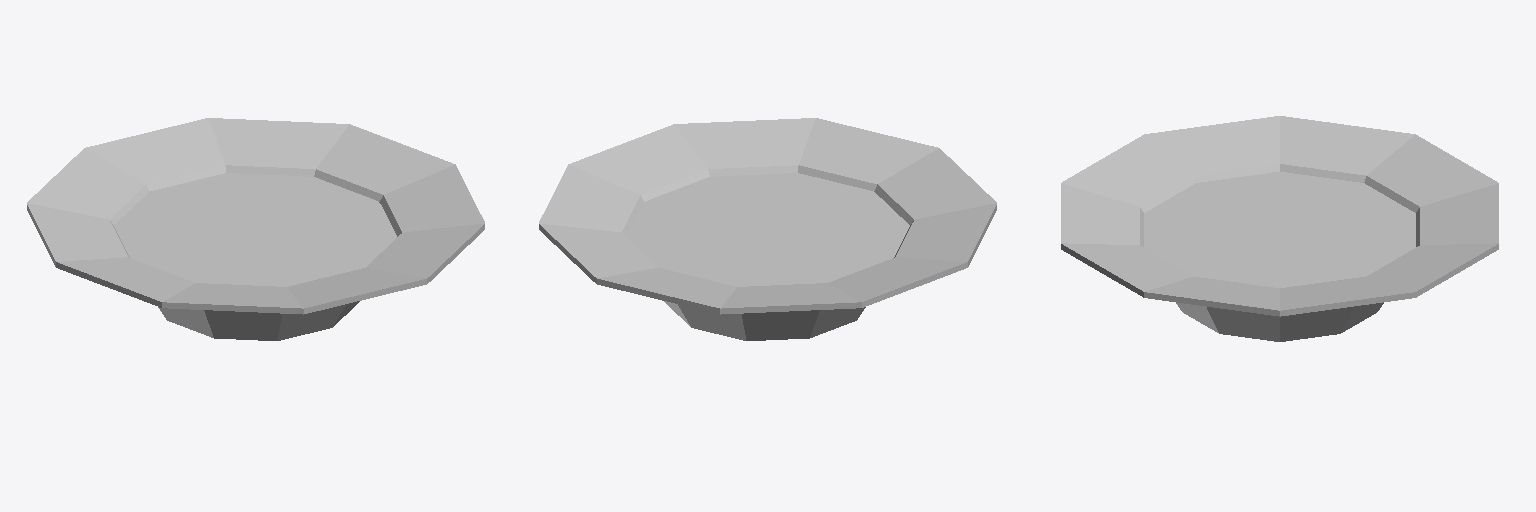
Rendered from bowl_full.obj.
3 views of the same model, side by side, from view 1: azimuth 30°, elevation 25°; view 2: azimuth 150°, elevation 25°; view 3: azimuth 270°, elevation 25° (orthographic).
Visible parts, largest first — view 1: Bowl1 Bowl2, Bowl2 pPlane3; view 2: Bowl1 Bowl2, Bowl2 pPlane3; view 3: Bowl1 Bowl2, Bowl2 pPlane3.
Boxes of the visible parts, box(x1,y1,x2,y2) form: Bowl1 Bowl2: box(27, 118, 484, 340); Bowl2 pPlane3: box(114, 173, 396, 286); Bowl1 Bowl2: box(539, 118, 996, 340); Bowl2 pPlane3: box(627, 173, 909, 286); Bowl1 Bowl2: box(1061, 116, 1498, 341); Bowl2 pPlane3: box(1144, 172, 1415, 287).
Bounding box in the file's own units: 1.66 × 0.3405 × 1.58.